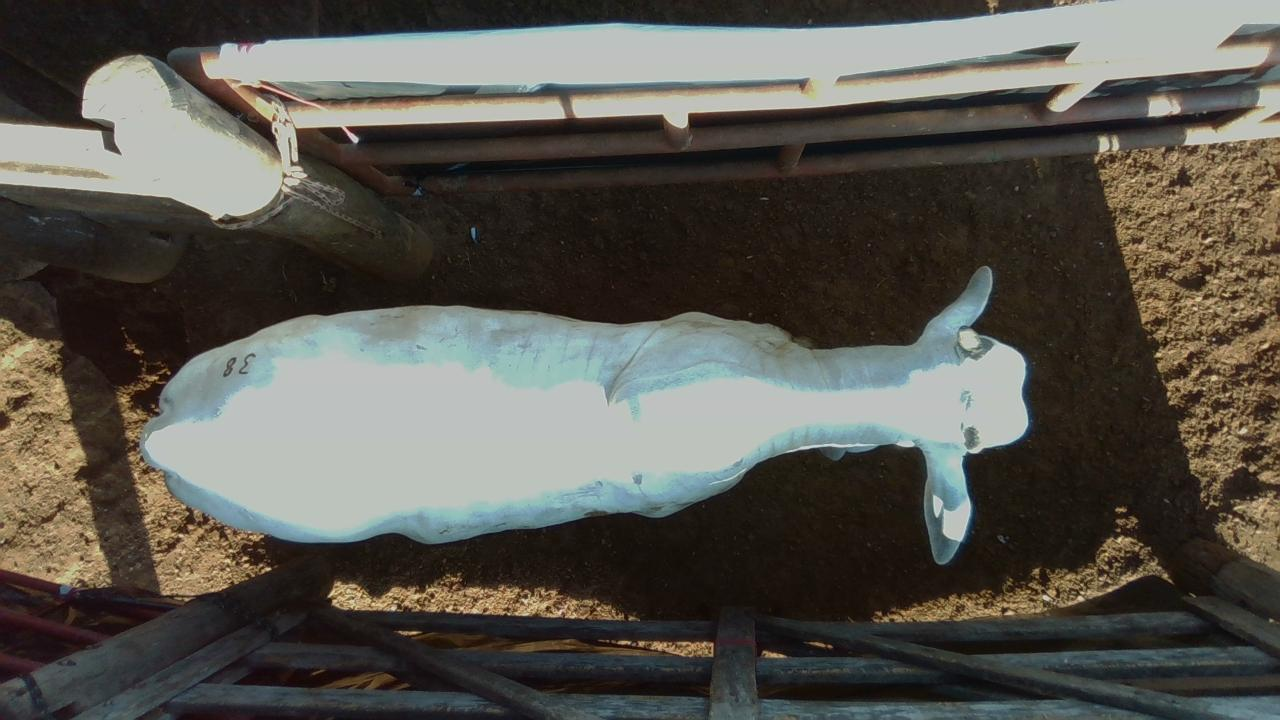cattle: (138, 263, 1031, 565)
